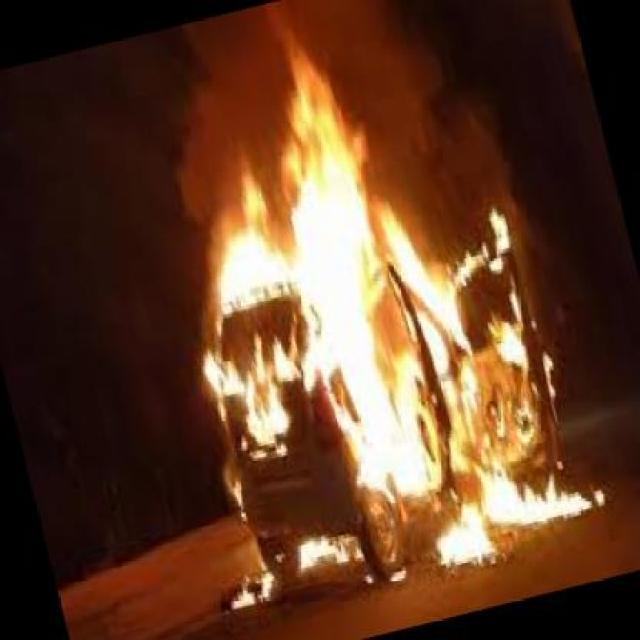Fire: (192, 55, 600, 594)
Smoke: (363, 3, 542, 204), (162, 31, 263, 189)
